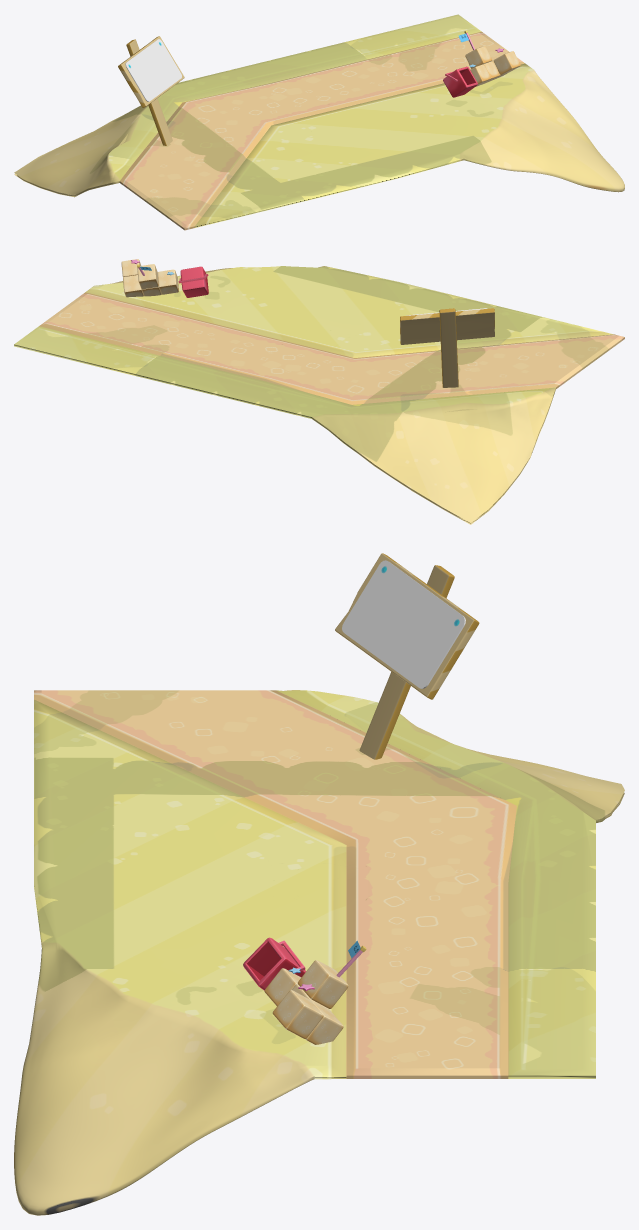
Rendered from S2_OutF_Field_002.fbx.
3 renders of one model, top to bottom at view 1: azimuth 30°, elevation 25°; view 2: azimuth 150°, elevation 25°; view 3: azimuth 270°, elevation 25°, orthographic. The views are drawn at different scales.
Visible parts, largest first — view 1: S2_OutF_Field; view 2: S2_OutF_Field; view 3: S2_OutF_Field.
Boxes of the visible parts, left/top/right/bottom form: S2_OutF_Field: left=14, top=14, right=624, bottom=230; S2_OutF_Field: left=14, top=259, right=624, bottom=524; S2_OutF_Field: left=14, top=553, right=624, bottom=1215.
Bounding box in the file's own units: 14.62 × 4.89 × 9.05.
